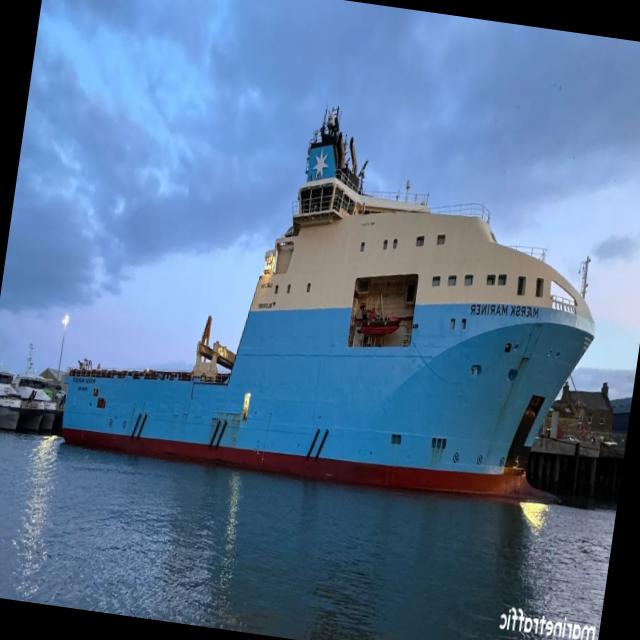Offshore: (63, 107, 595, 498)
